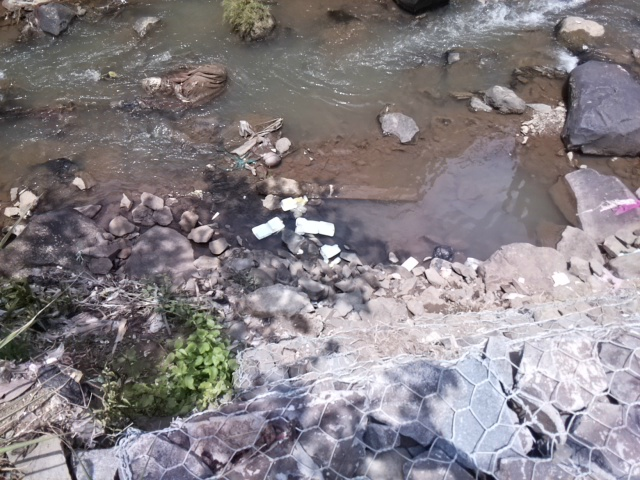Sampah_Plastik: (596, 197, 640, 212), (432, 244, 458, 258)
Sampah_Styrofoam: (251, 214, 284, 242), (294, 218, 335, 237), (319, 243, 345, 259), (397, 256, 420, 271), (277, 197, 298, 213)
